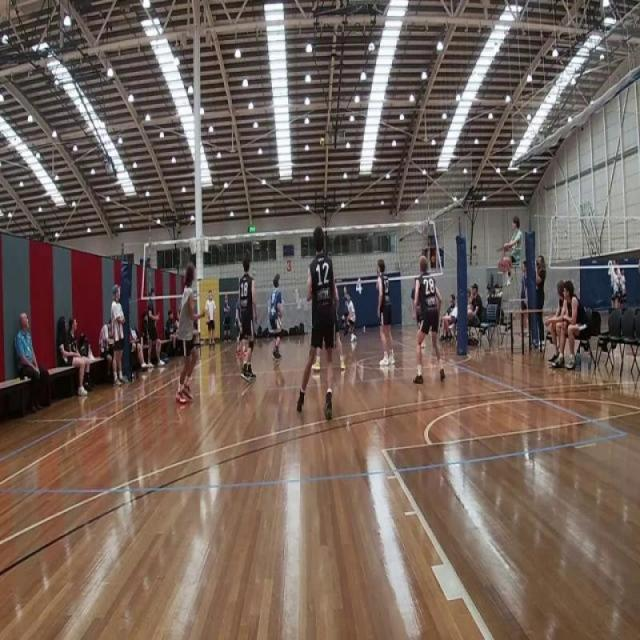volleyball: (318, 136, 326, 148)
